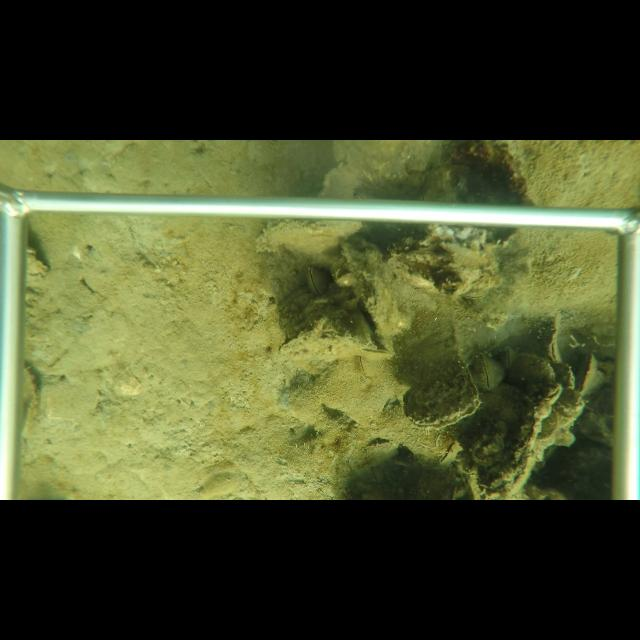Oyster-Closed: (256, 221, 363, 253), (274, 330, 367, 362), (471, 350, 507, 393), (516, 352, 557, 383), (574, 354, 597, 395), (305, 266, 331, 296), (458, 288, 489, 301), (501, 345, 516, 370), (356, 356, 366, 373)
Oyster-Open: (400, 361, 482, 433), (354, 347, 396, 359)
